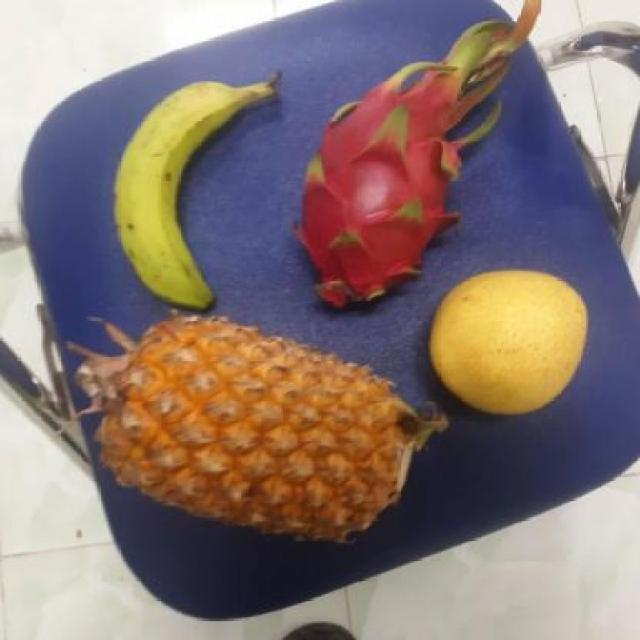banana: (106, 81, 266, 305)
dragon fruit: (280, 79, 486, 307)
pear: (430, 263, 588, 423)
pineapple: (77, 312, 421, 538)
